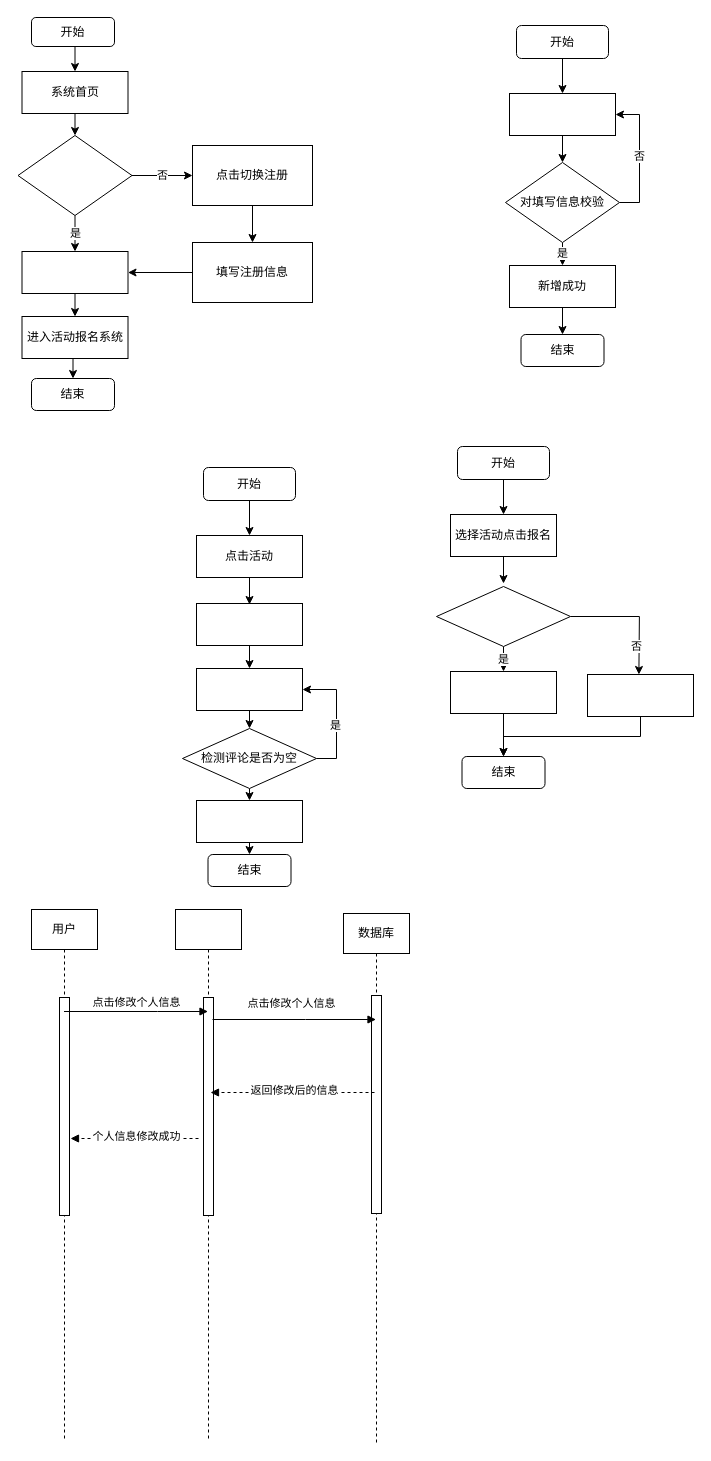
The diagram is 711 pixels wide and 1461 high, and some of its shapes have lost their labels. Each missing label, with the box of its shape:
填写活动信息: (508, 92, 616, 136)
填写账号密码登录: (21, 250, 128, 294)
成功发送评论: (196, 800, 302, 842)
提示成功报名: (450, 670, 556, 714)
提示报名失败: (586, 674, 694, 716)
是否有账号 和密码: (17, 134, 132, 216)
校验报名信息，如时间: (436, 586, 570, 646)
系统: (174, 908, 242, 1440)
输入框输入评论: (196, 668, 302, 710)
进入活动详情页面: (196, 602, 302, 646)
